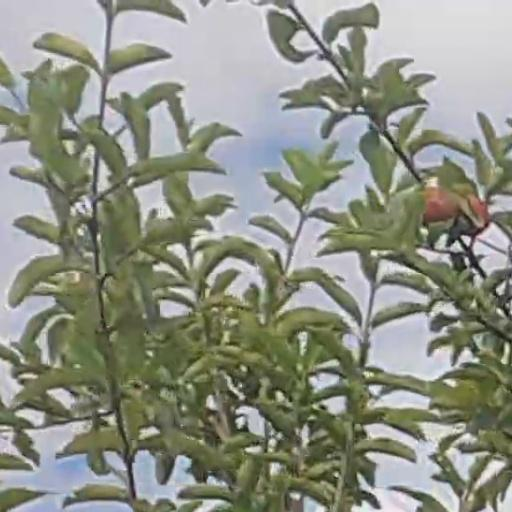acerola_vermelha: (424, 188, 458, 223), (468, 196, 488, 223)
